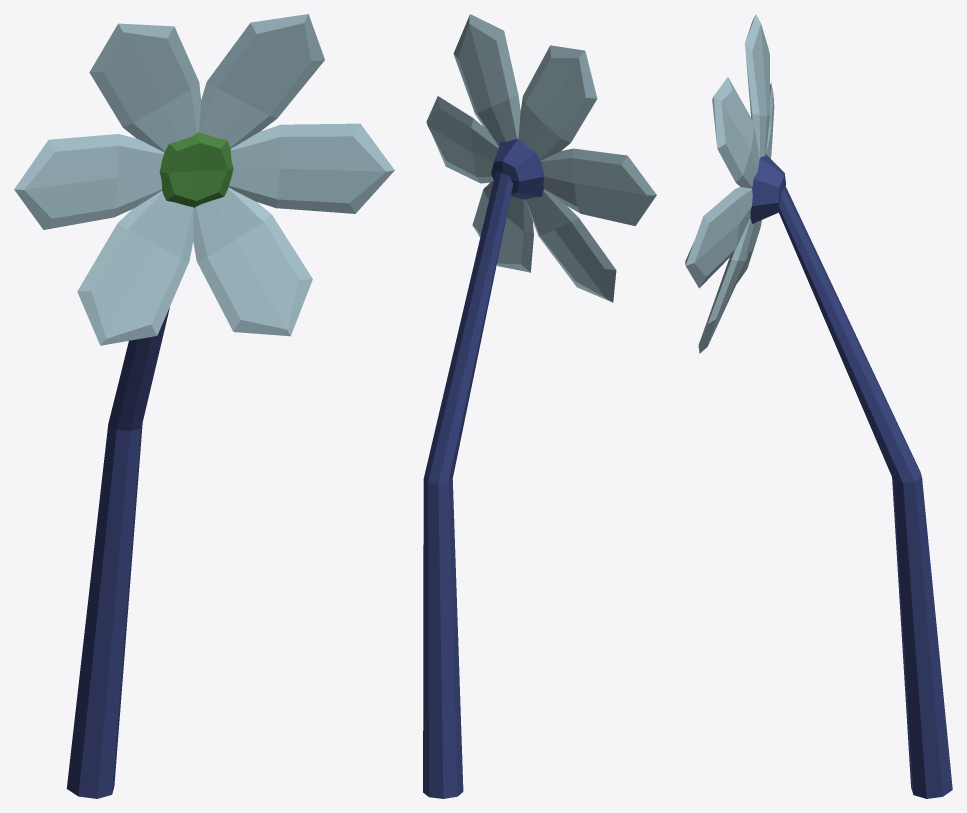
The model's file is Kitchen_Flower3.fbx.
3 views of the same model, side by side, from view 1: azimuth 30°, elevation 25°; view 2: azimuth 150°, elevation 25°; view 3: azimuth 270°, elevation 25° (orthographic). The views are drawn at different scales.
Visible parts, largest first — view 1: Kitchen_Flower3; view 2: Kitchen_Flower3; view 3: Kitchen_Flower3.
Boxes of the visible parts, x1,y1,x2,y2 form: Kitchen_Flower3: (14, 14, 394, 798); Kitchen_Flower3: (423, 14, 656, 798); Kitchen_Flower3: (685, 14, 952, 798).
Size of the model in its own units: 24.47 by 60.41 by 19.65.
